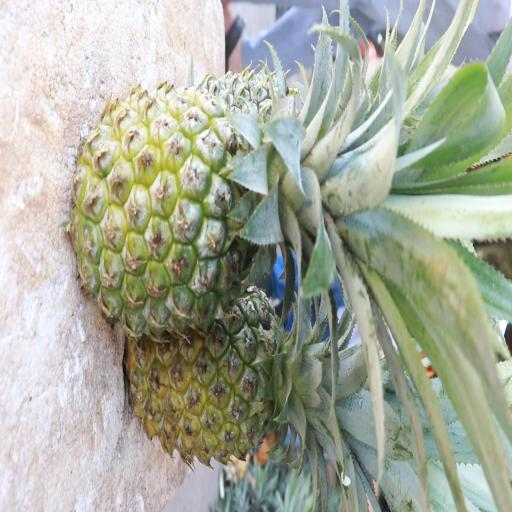------------------------------: (74, 86, 350, 334)
Pineapple - v8 v1: (126, 289, 333, 461)
